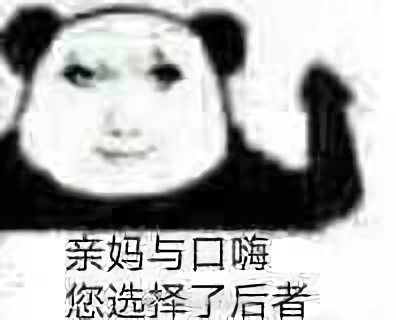dragon: (55, 49, 194, 174)
